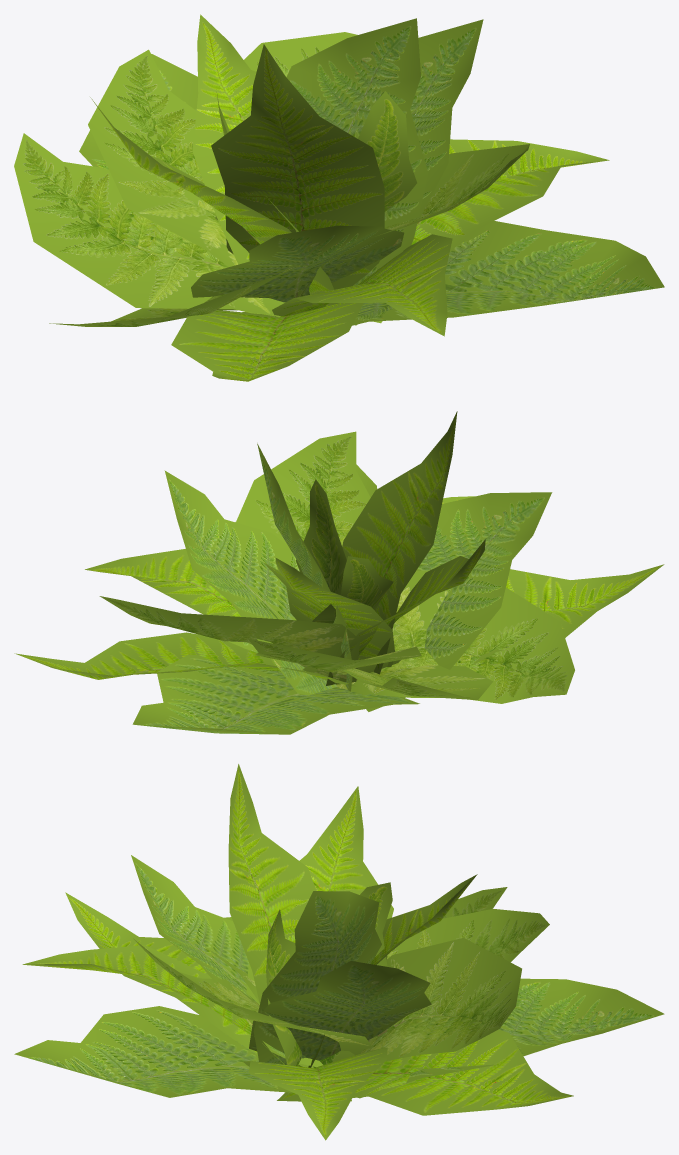
Rendered from Fern_03.fbx.
The picture shows the model from 3 angles, top to bottom: view 1: azimuth 30°, elevation 25°; view 2: azimuth 150°, elevation 25°; view 3: azimuth 270°, elevation 25°; orthographic projection. The views are drawn at different scales.
Visible parts, largest first — view 1: Fern_03; view 2: Fern_03; view 3: Fern_03.
Part boxes in pixels (x1=…): Fern_03: x1=14, y1=14, x2=664, y2=381; Fern_03: x1=14, y1=411, x2=664, y2=734; Fern_03: x1=14, y1=764, x2=664, y2=1140.
Size of the model in its own units: 227 by 125 by 265.
1 material, 1 textured.
